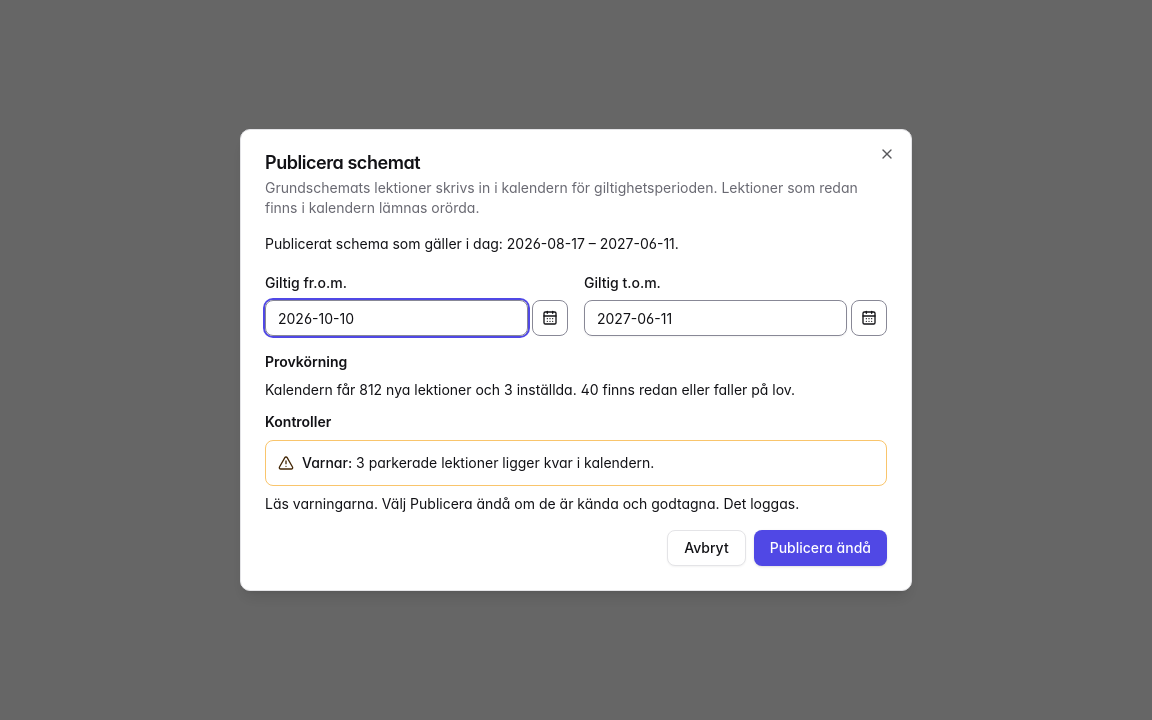
Scenario: PublishReviewDialog › says a stale preview in words and fetches it again instead of publishing
Click the button "Publicera ändå". click: (820, 548)
box: top-left (754, 530), bottom-right (887, 566)
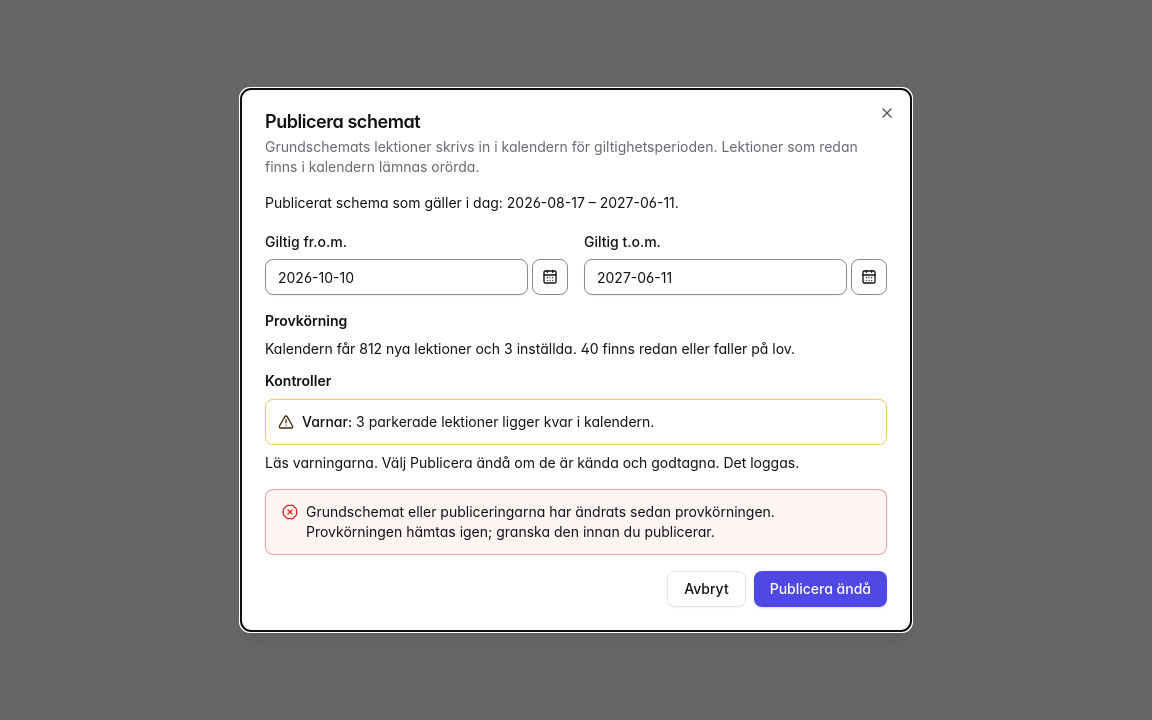
Expected: the message shows "har ändrats sedan provkörningen", top-left (306, 503), bottom-right (775, 540)
